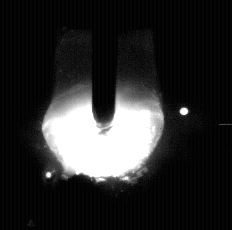arame: (92, 0, 118, 134)
poca: (41, 0, 164, 230)
